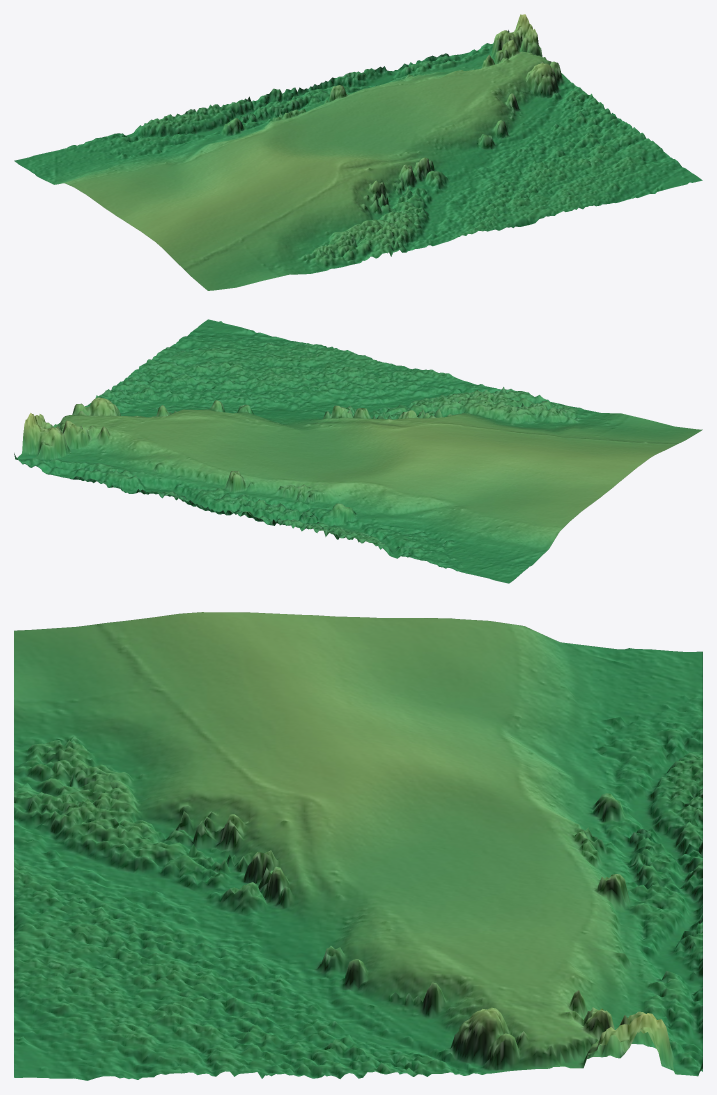
The model's file is flatland.obj.
3 views of the same model, one above another, from view 1: azimuth 30°, elevation 25°; view 2: azimuth 150°, elevation 25°; view 3: azimuth 270°, elevation 25° (orthographic). The views are drawn at different scales.
Parts seen in each view (by area): view 1: Object_0; view 2: Object_0; view 3: Object_0.
Part boxes in pixels (bbox=[...]): Object_0: bbox=[14, 14, 702, 290]; Object_0: bbox=[14, 319, 702, 583]; Object_0: bbox=[14, 612, 702, 1080].
Size of the model in its own units: 0.4583 by 0.0364 by 0.3112.
1 material, 1 textured.
